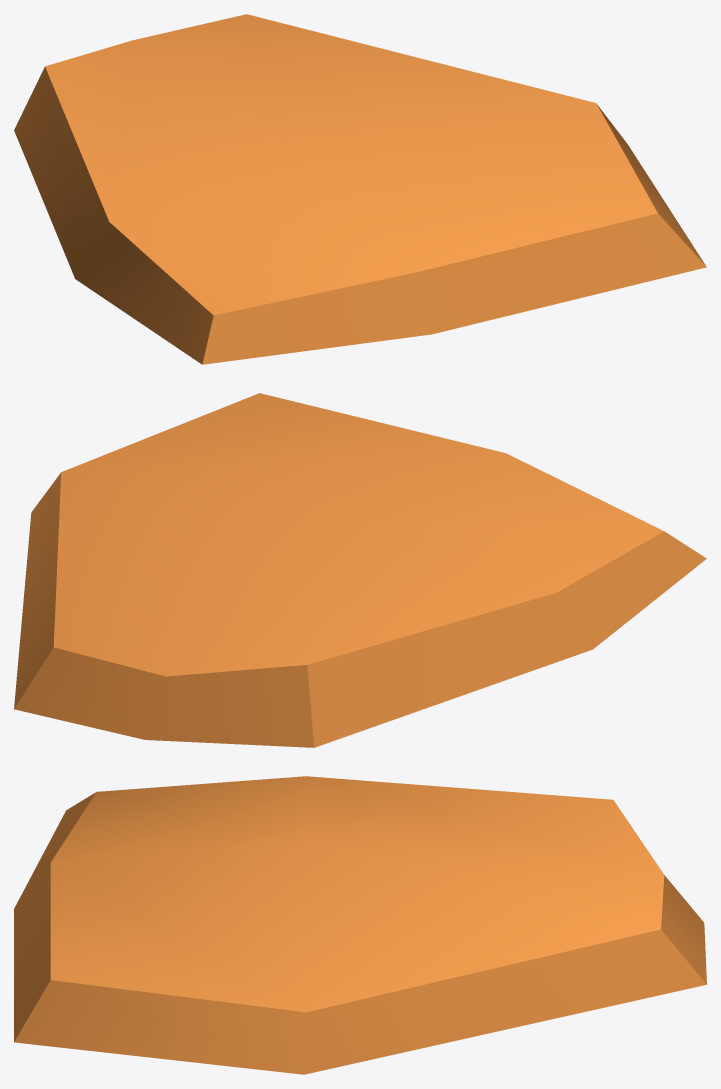
Rendered from stone_10.FBX.
3 views of the same model, one above another, from view 1: azimuth 30°, elevation 25°; view 2: azimuth 150°, elevation 25°; view 3: azimuth 270°, elevation 25° (orthographic). The views are drawn at different scales.
Parts seen in each view (by area): view 1: stone_10; view 2: stone_10; view 3: stone_10.
Boxes of the visible parts, x1,y1,x2,y2 form: stone_10: [14, 14, 706, 364]; stone_10: [14, 393, 706, 747]; stone_10: [14, 776, 706, 1074].
Bounding box in the file's own units: 0.703 × 0.0853 × 0.7681.
1 material, 1 textured.
